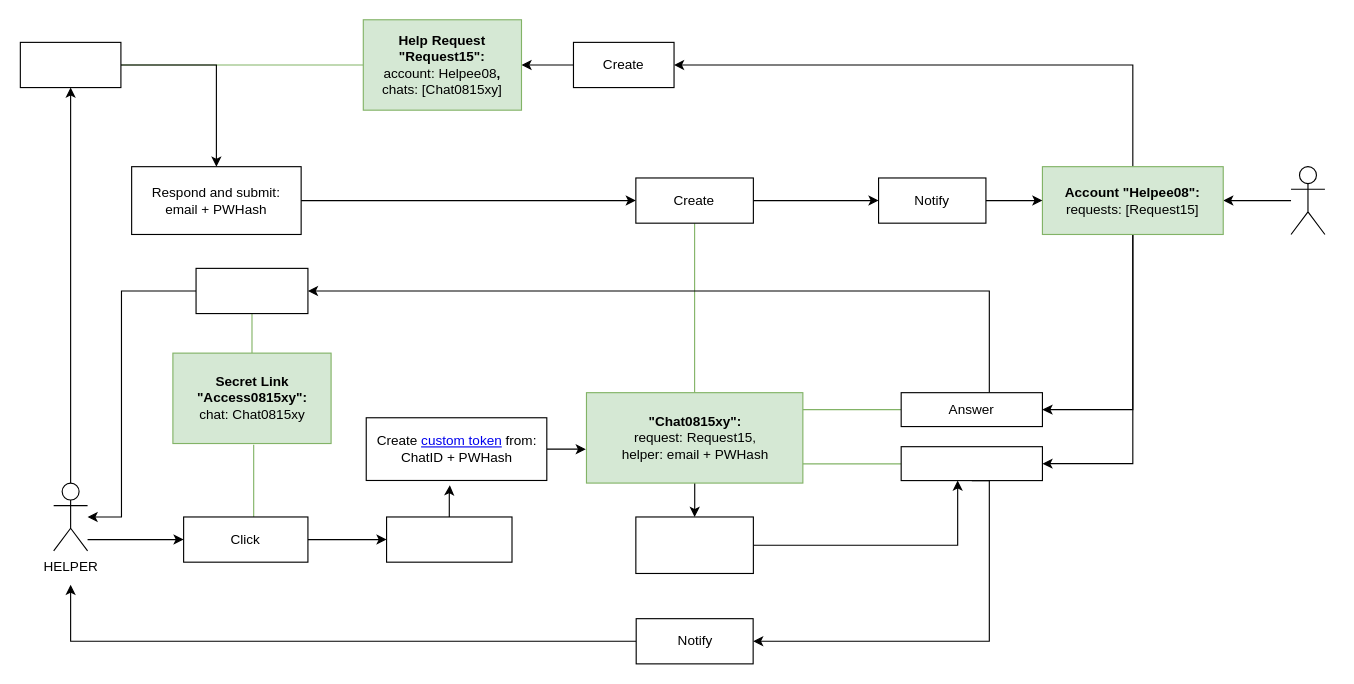
Some shapes in this 1354 by 684 pixel diagram are drawn without their labels. Here are the shapes that lost their labels. From the top down, the centre of each, then its label:
point (70, 64): View
point (1307, 200): HELPEE
point (251, 290): Send
point (971, 463): Resolve/Delete
point (448, 539): Enter PW
point (694, 544): Timeout (no answer)
